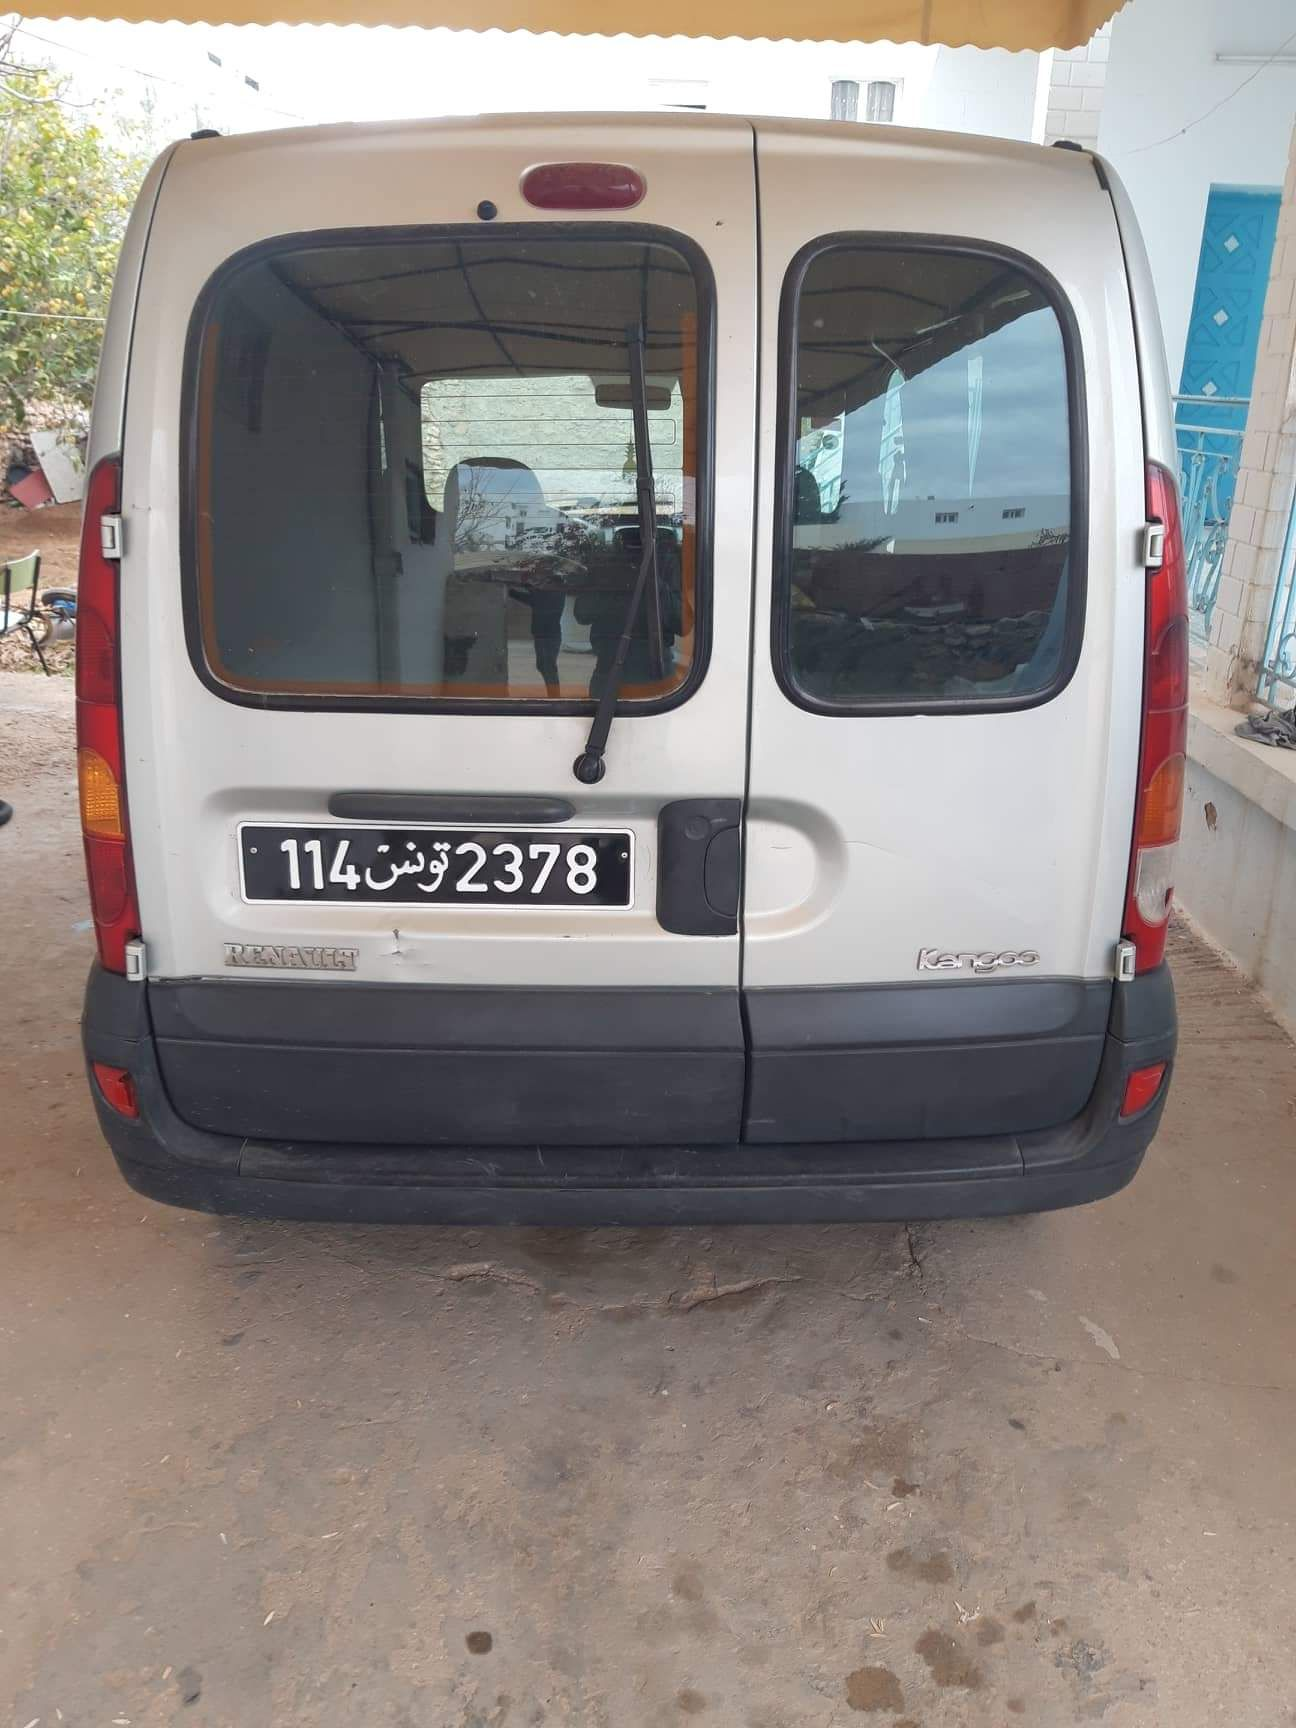LP: (235, 821, 637, 910)
